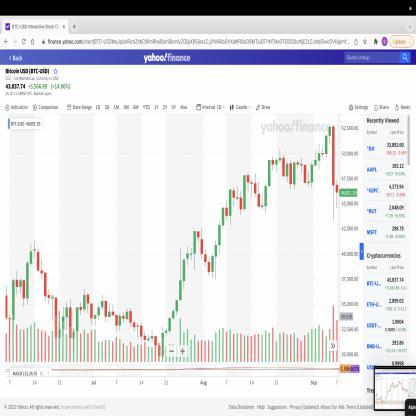Bearish: Evening Star Doji: (29, 236, 40, 274)
Bullish: 3 Line Strike: (232, 172, 246, 218)
Bullish: Tweezer Bottom: (207, 251, 215, 281), (289, 158, 296, 191), (115, 312, 122, 334)
